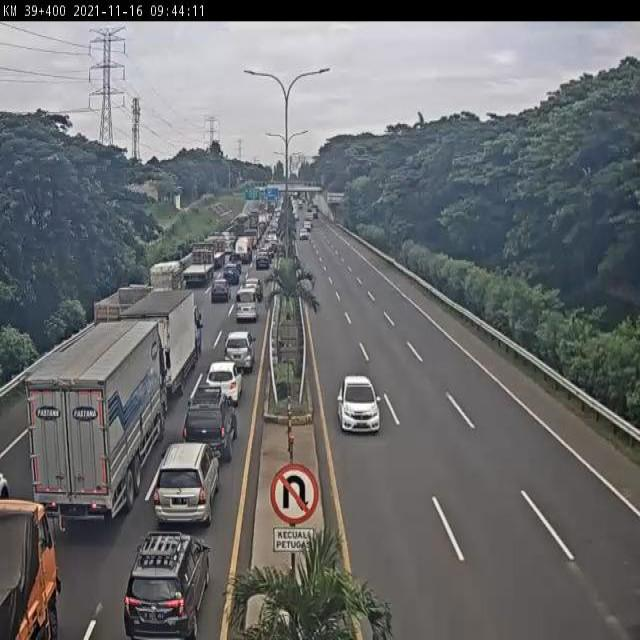car: (125, 526, 203, 640), (155, 438, 224, 530), (181, 392, 243, 465), (332, 367, 385, 441), (195, 353, 253, 420), (218, 329, 257, 371)
truck-l-: (24, 315, 171, 508), (183, 243, 217, 285), (207, 236, 228, 269)
truck-m-: (0, 480, 86, 640), (124, 289, 202, 395), (92, 281, 155, 351), (150, 259, 185, 312)
